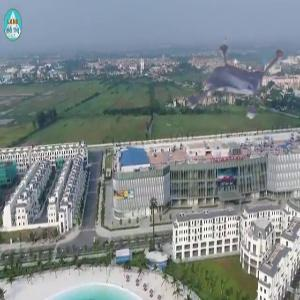drone: (167, 34, 286, 153)
